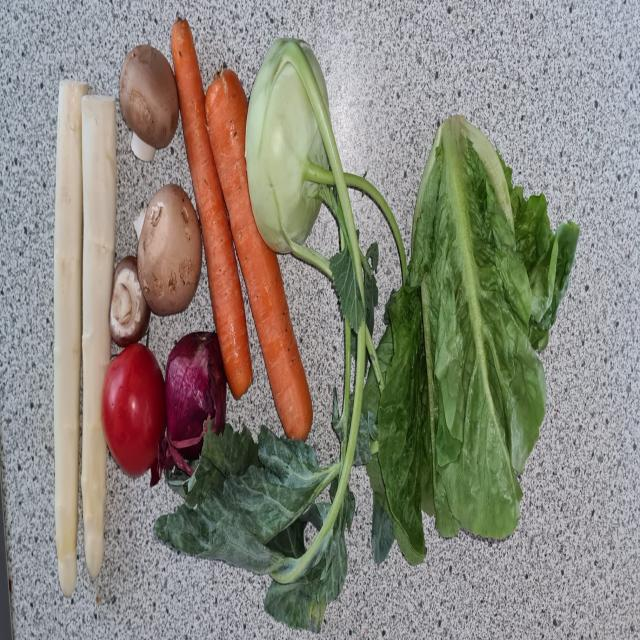Asparagus spear: (54, 78, 88, 600), (82, 93, 116, 583)
Carrot: (207, 65, 316, 445), (170, 12, 254, 400)
Mushroom: (136, 181, 202, 316), (118, 45, 179, 161), (107, 257, 153, 346)
Onion: (162, 324, 228, 483)
Salad: (378, 111, 582, 569)
Tomato: (103, 343, 167, 478)
